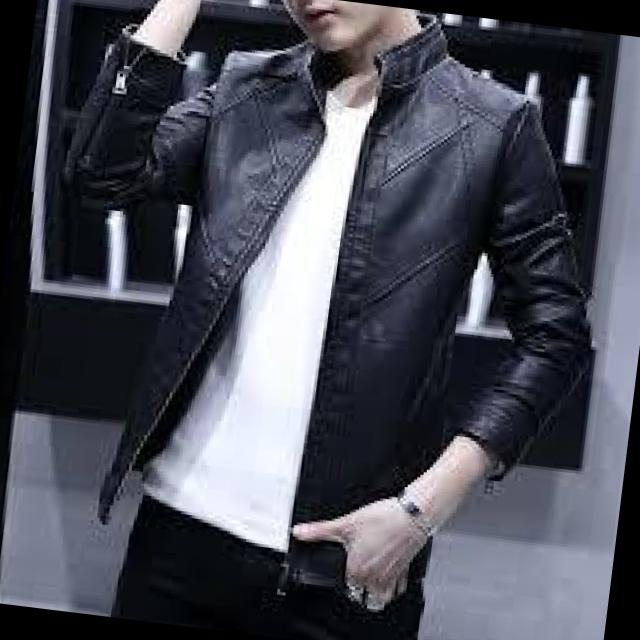jacket: (24, 0, 638, 583)
